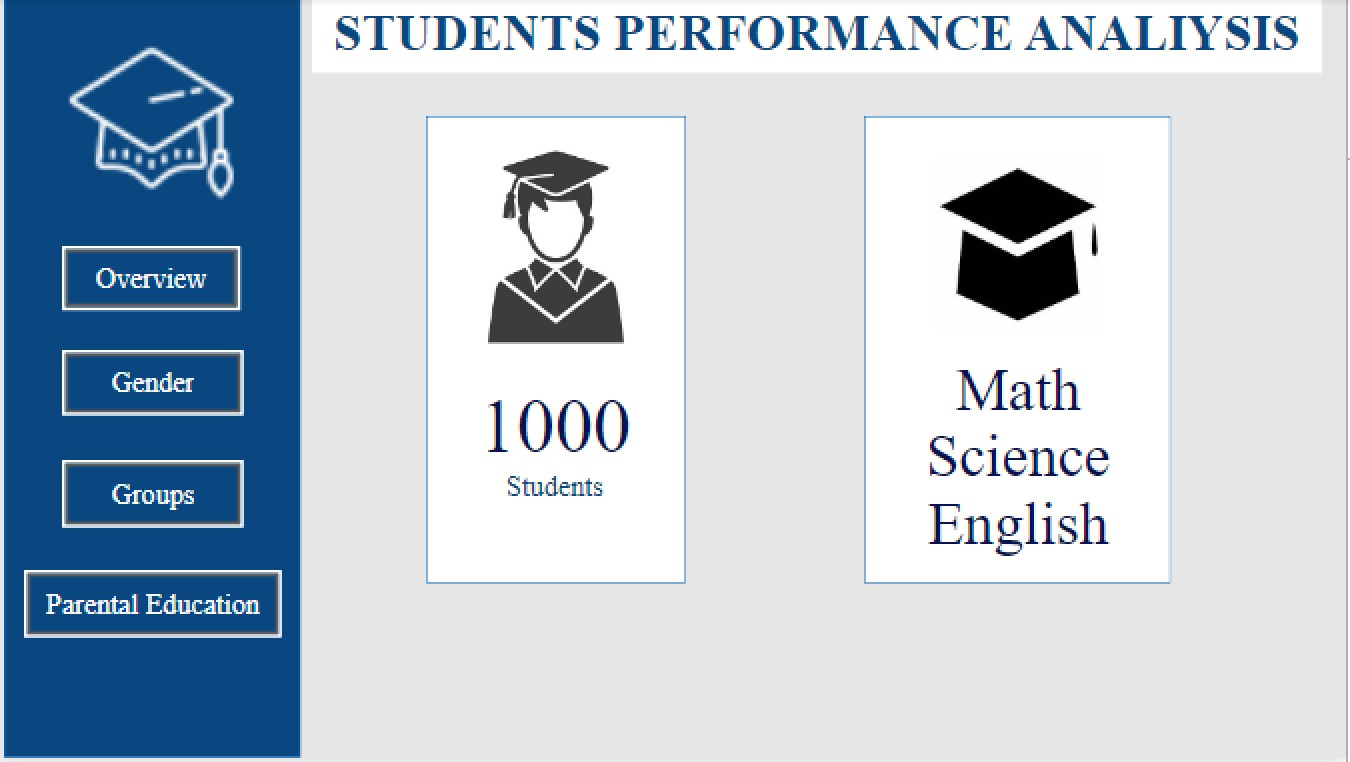

The page's visual inventory and layout, read from the dashboard file:
{"tool":"powerbi","page":{"name":"Overview","canvas":[1280,720],"ordinal":1},"visuals":[{"type":"shape","box":[9.5,0,280.2,719.5],"z":0},{"type":"textbox","box":[301.9,0,955.8,71.2],"z":1000},{"type":"actionButton","box":[64.4,234.8,168.5,60.6],"z":2000},{"type":"shape","box":[409.6,111.5,246.2,442.3],"z":3000},{"type":"image","box":[409.6,111.5,246.2,248.1],"z":4000},{"type":"textbox","box":[423.1,359.6,217.3,155.8],"z":5000},{"type":"shape","box":[823.1,111.5,290.4,442.3],"z":6000},{"type":"image","box":[846.2,148.1,246.2,171.2],"z":7000},{"type":"textbox","box":[846.2,332.7,246.2,207.7],"z":8000},{"type":"image","box":[26.5,36,244.3,164.7],"z":9000},{"type":"actionButton","box":[64.4,333.3,172.3,62.5],"z":10000},{"type":"actionButton","box":[64.4,437.4,172.3,64.4],"z":11000},{"type":"actionButton","box":[28.4,541.5,244.3,64.4],"z":12000}]}

Visuals, with their boxes in screenshot pixels (x1, y1, x2, y2), scaled from the page's 1280x720 canvas onto the 1350x762 screenshot:
shape: pyautogui.locateOnScreen(10, 0, 306, 761)
textbox: pyautogui.locateOnScreen(318, 0, 1326, 75)
actionButton: pyautogui.locateOnScreen(68, 248, 246, 313)
shape: pyautogui.locateOnScreen(432, 118, 692, 586)
image: pyautogui.locateOnScreen(432, 118, 692, 381)
textbox: pyautogui.locateOnScreen(446, 381, 675, 545)
shape: pyautogui.locateOnScreen(868, 118, 1174, 586)
image: pyautogui.locateOnScreen(892, 157, 1152, 338)
textbox: pyautogui.locateOnScreen(892, 352, 1152, 572)
image: pyautogui.locateOnScreen(28, 38, 286, 212)
actionButton: pyautogui.locateOnScreen(68, 353, 250, 419)
actionButton: pyautogui.locateOnScreen(68, 463, 250, 531)
actionButton: pyautogui.locateOnScreen(30, 573, 288, 641)
